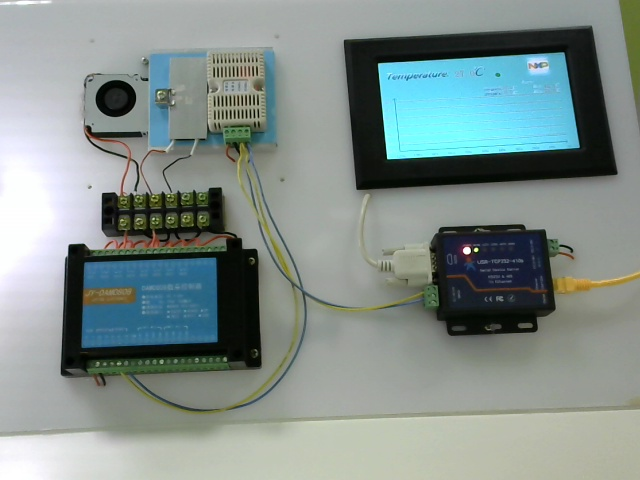fan: (74, 56, 151, 140)
heater: (164, 49, 208, 153)
modbus bridge: (410, 220, 562, 341)
relay: (57, 236, 285, 395)
termperature: (208, 43, 279, 145)
